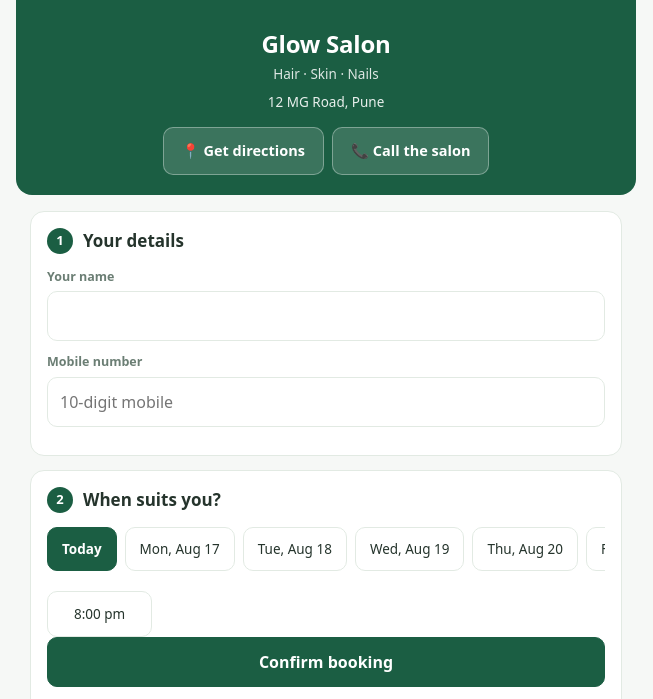
it: picking a time › keeps the whole day open on a later date, however late it is today
Click the button "Mon, Aug 17": [180, 549] box [125, 527, 235, 571]
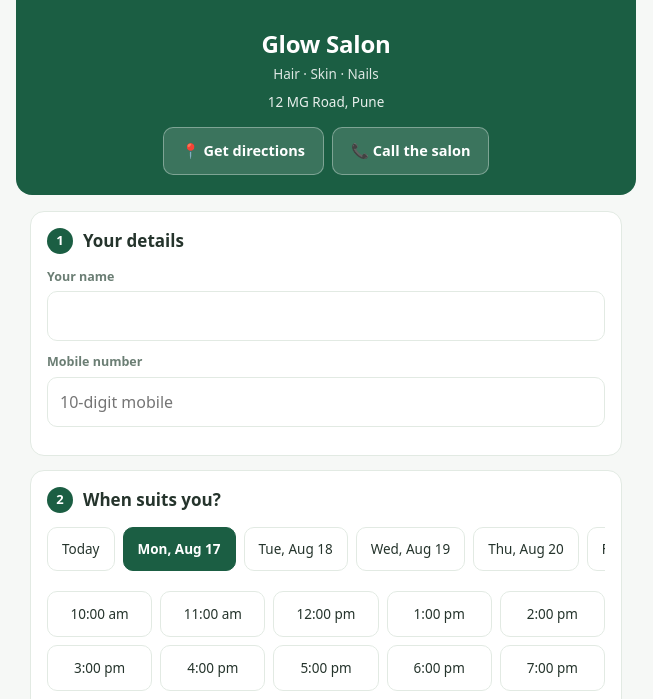
Expected: the button "10:00 am" is shown, [47, 591, 152, 637]
